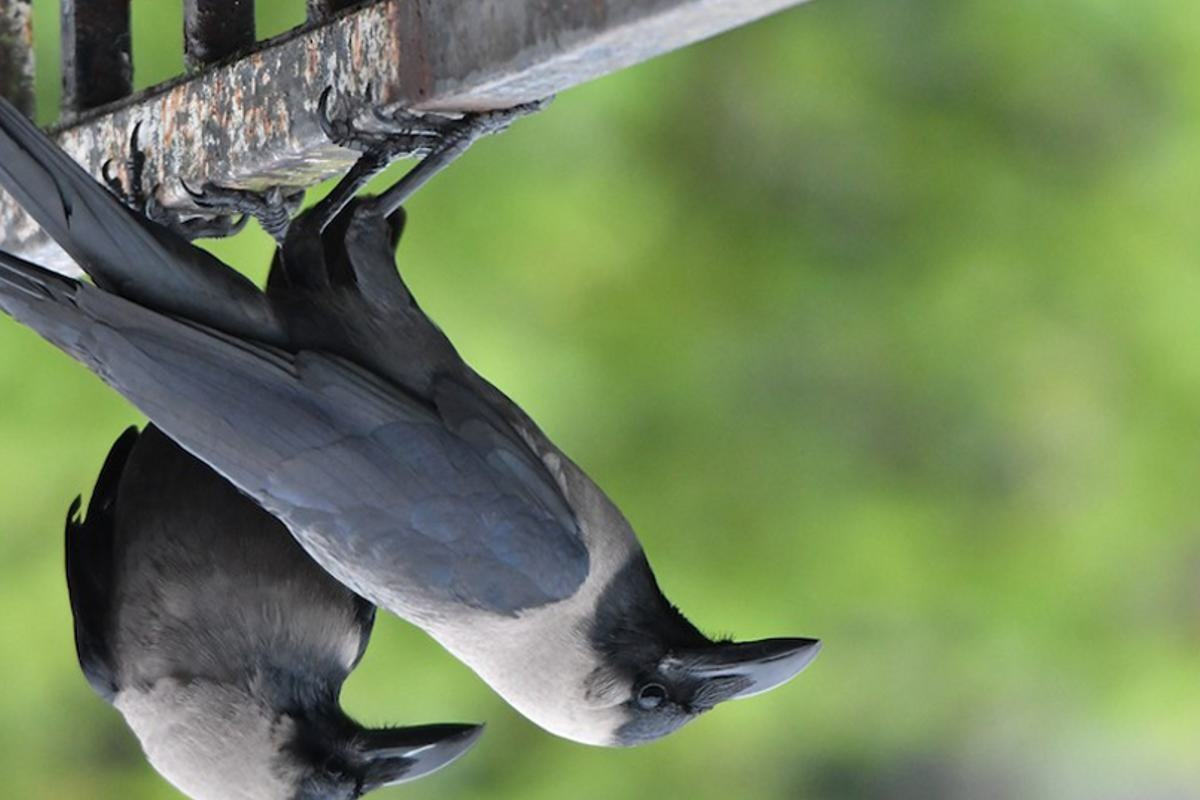crow: (4, 86, 860, 737), (54, 433, 497, 793)
